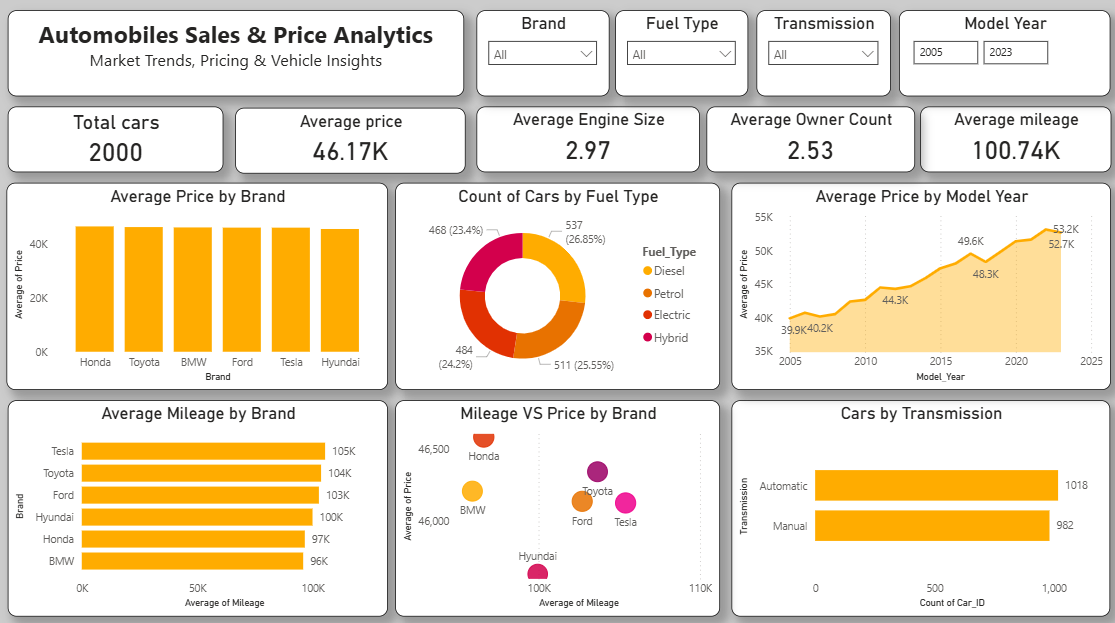

This screenshot's page, from the dashboard's own definition file:
{"tool":"powerbi","page":{"name":"Page 1","canvas":[1280,720],"ordinal":0},"visuals":[{"type":"textbox","box":[10,13.3,521.7,98.3],"z":0},{"type":"card","title":"Total cars","fields":{"Values":["CountNonNull(car_price_dataset.Car_ID)"]},"box":[10,122.7,246.7,75],"z":1000},{"type":"card","title":"Average price","fields":{"Values":["Avg(car_price_dataset.Price)"]},"box":[270,124.4,263.3,75],"z":2000},{"type":"card","title":"Average mileage","fields":{"Values":["Avg(car_price_dataset.Mileage)"]},"box":[1053.3,122.7,218.3,75],"z":3000},{"type":"card","title":"Average Engine Size","fields":{"Values":["Avg(car_price_dataset.Engine_Size)"]},"box":[545,122.7,255,75],"z":4000},{"type":"clusteredColumnChart","title":"Average Price by Brand","fields":{"Category":["car_price_dataset.Brand"],"Y":["Avg(car_price_dataset.Price)"]},"box":[8.6,210,435.7,237.1],"z":5000},{"type":"clusteredBarChart","title":"Average Mileage by Brand","fields":{"Category":["car_price_dataset.Brand"],"Y":["Avg(car_price_dataset.Mileage)"]},"box":[10,458.6,434.3,247.1],"z":6000},{"type":"donutChart","title":"Count of Cars by Fuel Type","fields":{"Category":["car_price_dataset.Fuel_Type"],"Y":["CountNonNull(car_price_dataset.Car_ID)"]},"box":[452.9,210,371.4,237.1],"z":7000},{"type":"clusteredBarChart","title":" Cars by Transmission","fields":{"Category":["car_price_dataset.Transmission"],"Y":["CountNonNull(car_price_dataset.Car_ID)"]},"box":[837.1,458.6,432.9,247.1],"z":8000},{"type":"lineChart","title":"Average  Price by Model Year","fields":{"Category":["car_price_dataset.Model_Year"],"Y":["Avg(car_price_dataset.Price)"]},"box":[836.7,210,433.3,236.7],"z":9000},{"type":"scatterChart","title":"Mileage VS Price by Brand","fields":{"X":["Avg(car_price_dataset.Mileage)"],"Y":["Avg(car_price_dataset.Price)"],"Series":["car_price_dataset.Brand"],"Size":["Avg(car_price_dataset.Engine_Size)"]},"box":[452.9,458.6,371.4,247.1],"z":10000},{"type":"slicer","title":"Brand","fields":{"Values":["car_price_dataset.Brand"]},"box":[545,13.3,151.7,98.3],"z":11000},{"type":"slicer","title":"Fuel Type","fields":{"Values":["car_price_dataset.Fuel_Type"]},"box":[705,13.3,151.7,98.3],"z":12000},{"type":"slicer","title":"Transmission","fields":{"Values":["car_price_dataset.Transmission"]},"box":[865,13.3,153.3,98.3],"z":13000},{"type":"slicer","title":"Model Year","fields":{"Values":["car_price_dataset.Model_Year"]},"box":[1028.3,13.3,241.7,98.3],"z":14000},{"type":"card","title":"Average Owner Count","fields":{"Values":["Avg(car_price_dataset.Owner_Count)"]},"box":[808,122.7,238,75],"z":15000}]}

Visuals, with their boxes in screenshot pixels (x1, y1, x2, y2), scaled from the page's 1280x720 canvas onto the 1115x623 screenshot:
textbox: region(9, 12, 463, 97)
"Total cars" card: region(9, 106, 224, 171)
"Average price" card: region(235, 108, 465, 173)
"Average mileage" card: region(918, 106, 1108, 171)
"Average Engine Size" card: region(475, 106, 697, 171)
"Average Price by Brand" clusteredColumnChart: region(7, 182, 387, 387)
"Average Mileage by Brand" clusteredBarChart: region(9, 397, 387, 611)
"Count of Cars by Fuel Type" donutChart: region(395, 182, 718, 387)
" Cars by Transmission" clusteredBarChart: region(729, 397, 1106, 611)
"Average  Price by Model Year" lineChart: region(729, 182, 1106, 387)
"Mileage VS Price by Brand" scatterChart: region(395, 397, 718, 611)
"Brand" slicer: region(475, 12, 607, 97)
"Fuel Type" slicer: region(614, 12, 746, 97)
"Transmission" slicer: region(753, 12, 887, 97)
"Model Year" slicer: region(896, 12, 1106, 97)
"Average Owner Count" card: region(704, 106, 911, 171)
